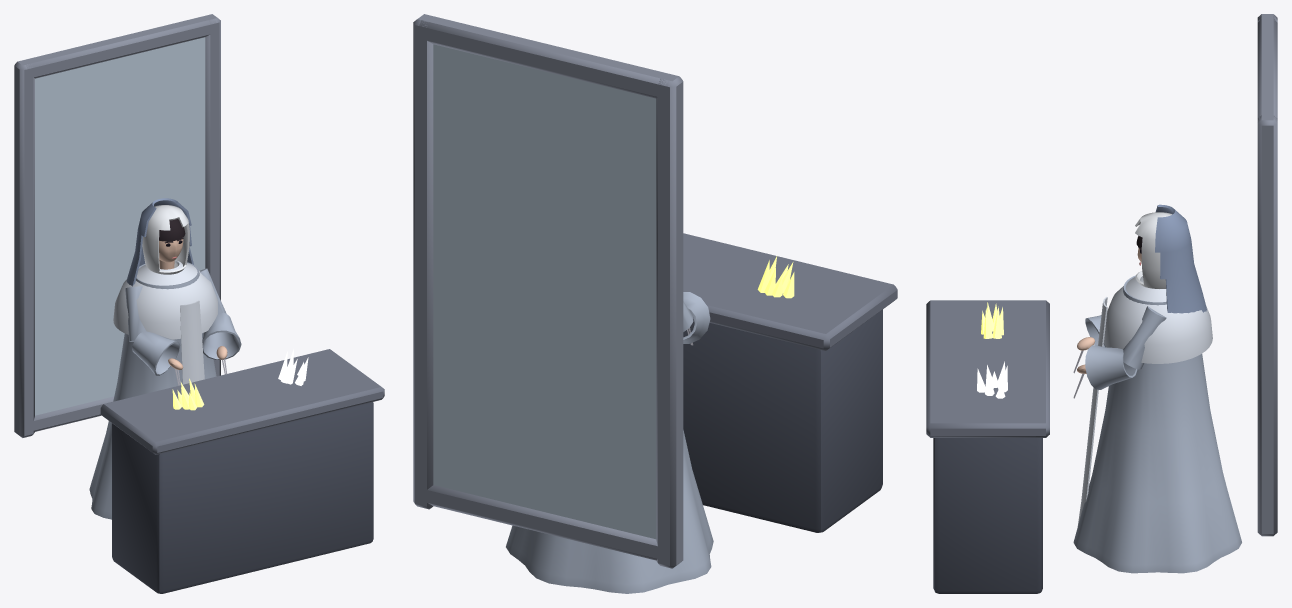
The model's file is tartara.glb.
3 renders of one model, left to right at view 1: azimuth 30°, elevation 25°; view 2: azimuth 150°, elevation 25°; view 3: azimuth 270°, elevation 25°, orthographic. The views are drawn at different scales.
Parts seen in each view (by area): view 1: tar_table, tar_body; view 2: tar_table, tar_body; view 3: tar_table, tar_body.
Boxes of the visible parts, x1=… form: tar_table: x1=14, y1=14, x2=384, y2=593; tar_body: x1=89, y1=198, x2=241, y2=519; tar_table: x1=413, y1=14, x2=897, y2=568; tar_body: x1=506, y1=292, x2=713, y2=593; tar_table: x1=926, y1=14, x2=1277, y2=593; tar_body: x1=1073, y1=204, x2=1241, y2=573.
Size of the model in its own units: 1.5 by 2.6 by 1.76.
